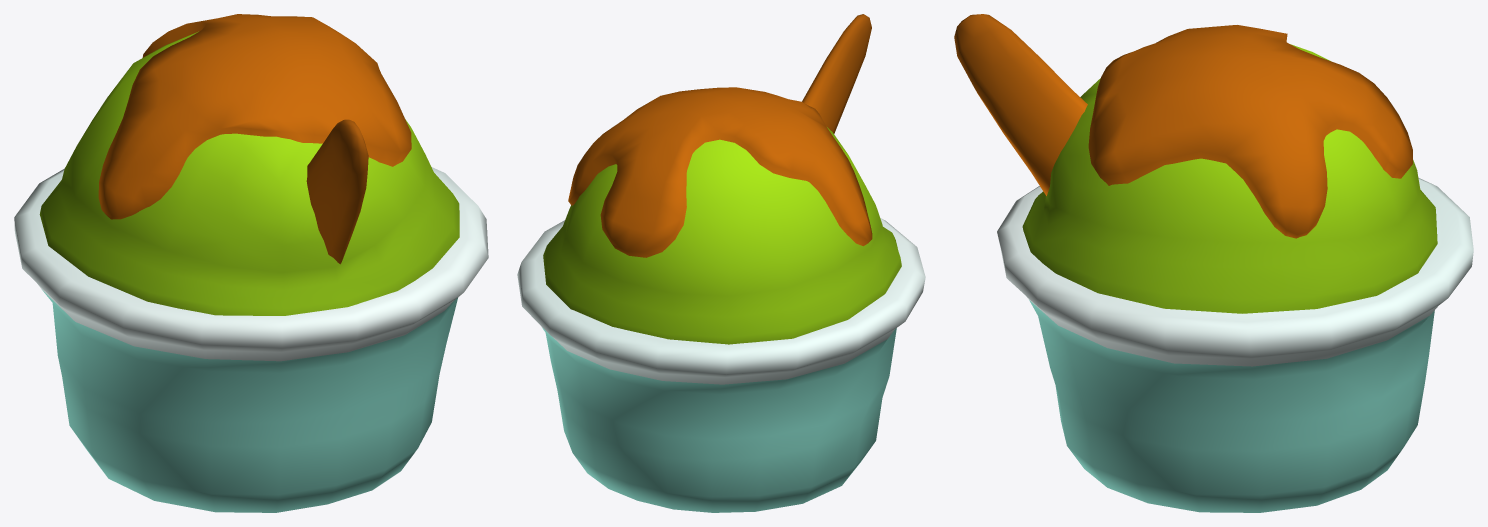
Rendered from IceCream_0001_0015.fbx.
3 views of the same model, side by side, from view 1: azimuth 30°, elevation 25°; view 2: azimuth 150°, elevation 25°; view 3: azimuth 270°, elevation 25° (orthographic). The views are drawn at different scales.
Visible parts, largest first — view 1: Ice_0001_0015; view 2: Ice_0001_0015; view 3: Ice_0001_0015.
Boxes of the visible parts, <box> form: Ice_0001_0015: <box>14,14,488,512</box>; Ice_0001_0015: <box>517,14,925,512</box>; Ice_0001_0015: <box>954,14,1473,512</box>.
Bounding box in the file's own units: 0.0713 × 0.071 × 0.0796.
1 material, 1 textured.
